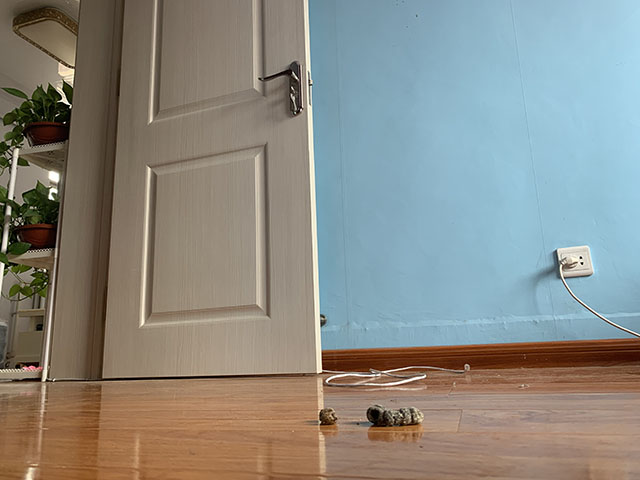feces: (366, 402, 425, 428), (318, 406, 340, 426)
wire: (320, 362, 472, 388)
